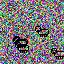sheep: (34, 25, 49, 37), (51, 48, 64, 59)
